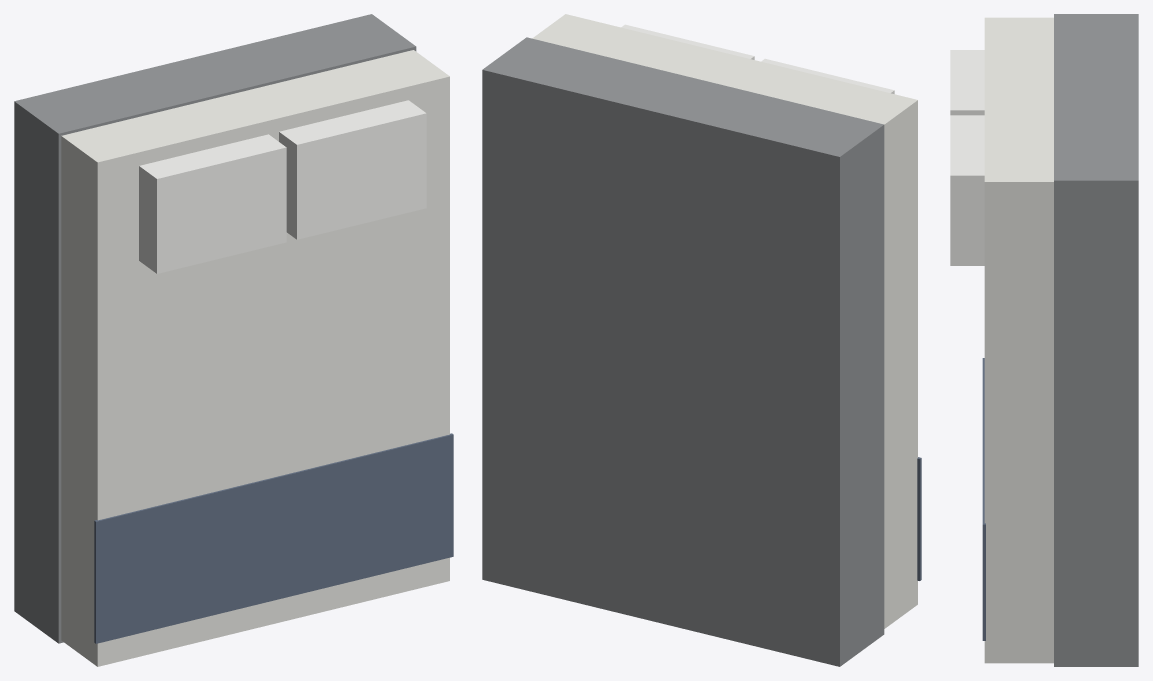
File: M02_bed.obj
3 views of the same model, side by side, from view 1: azimuth 30°, elevation 25°; view 2: azimuth 150°, elevation 25°; view 3: azimuth 270°, elevation 25° (orthographic). The views are drawn at different scales.
Parts seen in each view (by area): view 1: M02_bed_Colchao, M02_bed_Peseira__manta_, M02_bed_Base_Box, M02_bed_Travesseiro_1, M02_bed_Travesseiro_2; view 2: M02_bed_Base_Box, M02_bed_Colchao; view 3: M02_bed_Base_Box, M02_bed_Colchao, M02_bed_Travesseiro_2, M02_bed_Travesseiro_1, M02_bed_Peseira__manta_.
Part boxes in pixels (bbox=[...]): M02_bed_Colchao: bbox=[61, 50, 449, 666]; M02_bed_Peseira__manta_: bbox=[94, 433, 453, 643]; M02_bed_Base_Box: bbox=[14, 14, 416, 643]; M02_bed_Travesseiro_1: bbox=[139, 134, 286, 273]; M02_bed_Travesseiro_2: bbox=[279, 100, 426, 239]; M02_bed_Base_Box: bbox=[482, 37, 884, 666]; M02_bed_Colchao: bbox=[532, 14, 917, 628]; M02_bed_Base_Box: bbox=[1054, 14, 1138, 666]; M02_bed_Colchao: bbox=[984, 17, 1053, 663]; M02_bed_Travesseiro_2: bbox=[950, 115, 984, 265]; M02_bed_Travesseiro_1: bbox=[950, 50, 984, 115]; M02_bed_Peseira__manta_: bbox=[982, 358, 985, 640].
Bounding box in the file's own units: 1380 × 1880 × 660.
